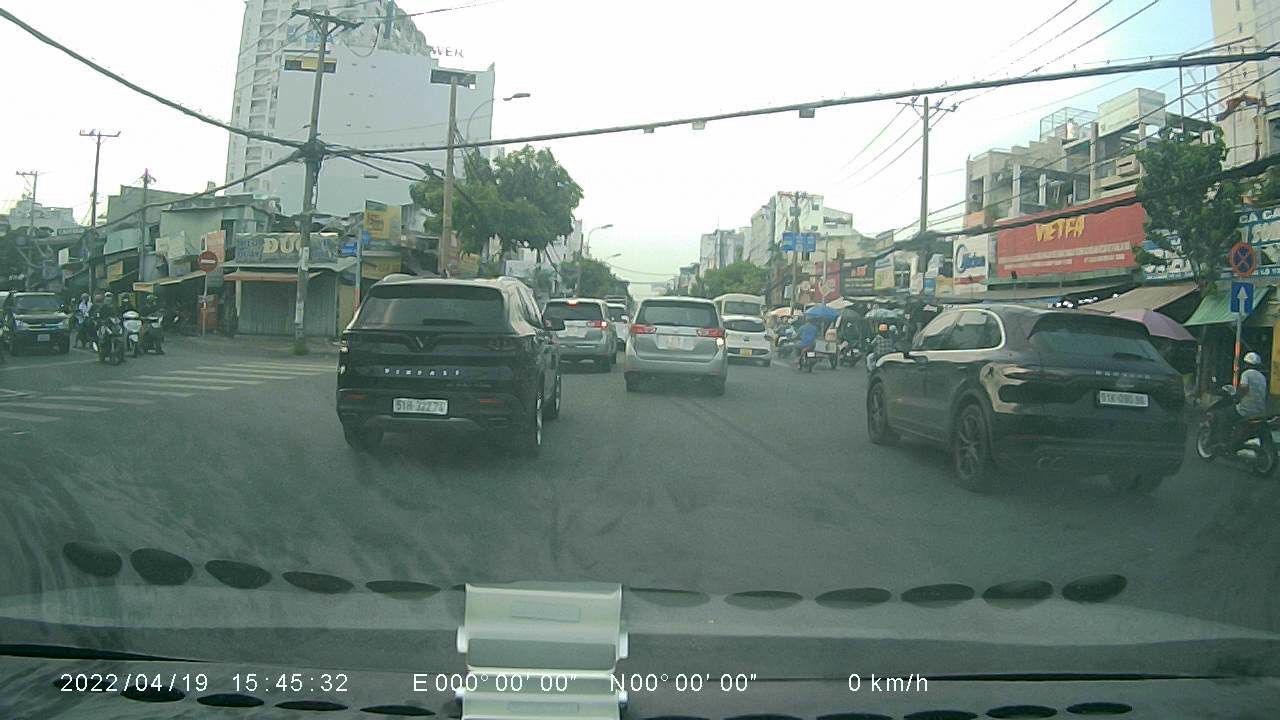Cam di nguoc chieu: (196, 248, 220, 273)
